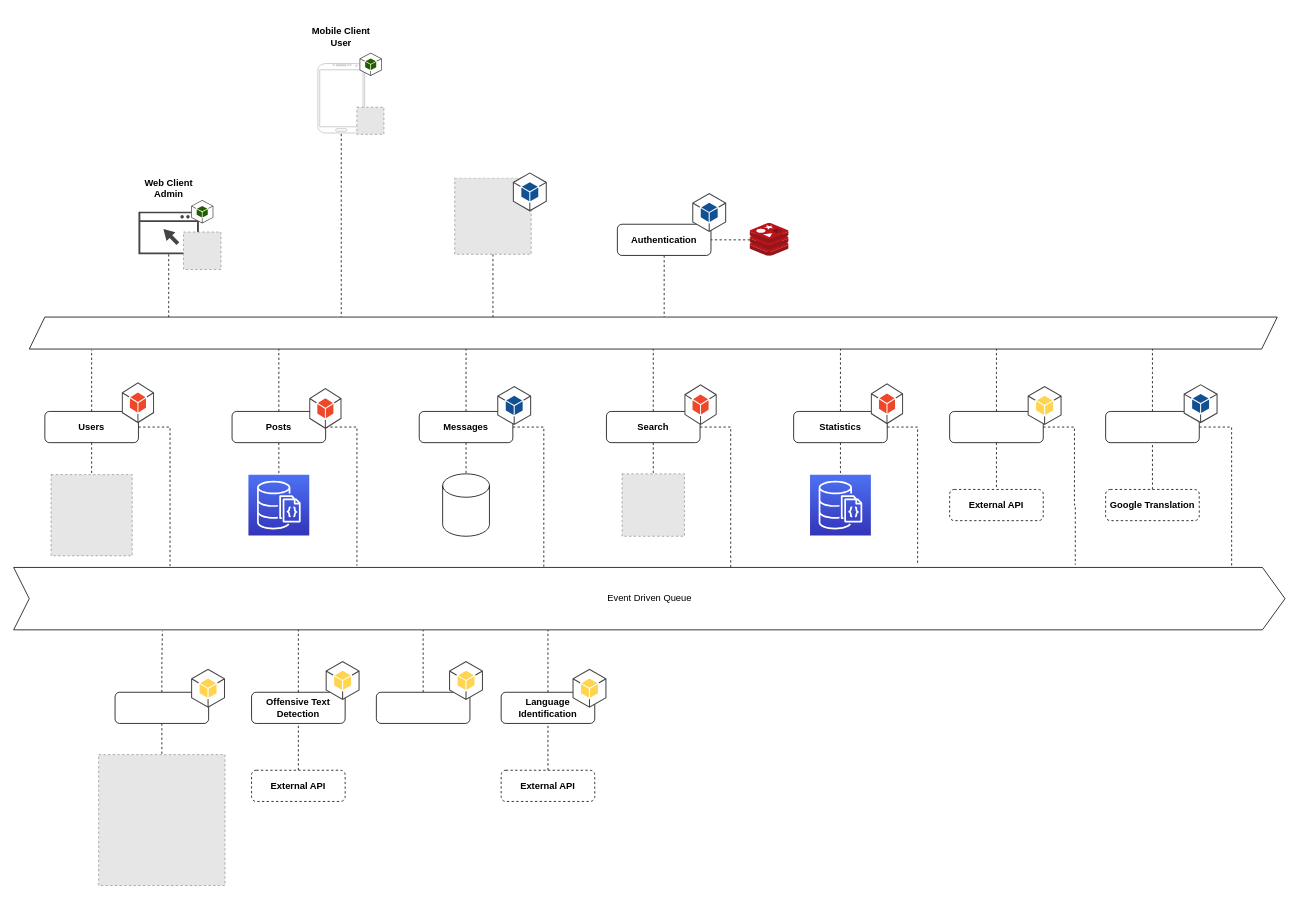
Image size: 1299x899. Some labels were removed from this diagram. Grey dashed boxes stand in for pictures. The shapes that lost their labels are listed below. From the top down, each one's centre as x and y in pixels, then its label:
At point (492, 165): "CLI".
At point (652, 332): "API GATEWAY".
At point (996, 427): "Text to Speech".
At point (1152, 427): "Translation".
At point (161, 707): "Logging".
At point (423, 707): "Topic Modeling".
